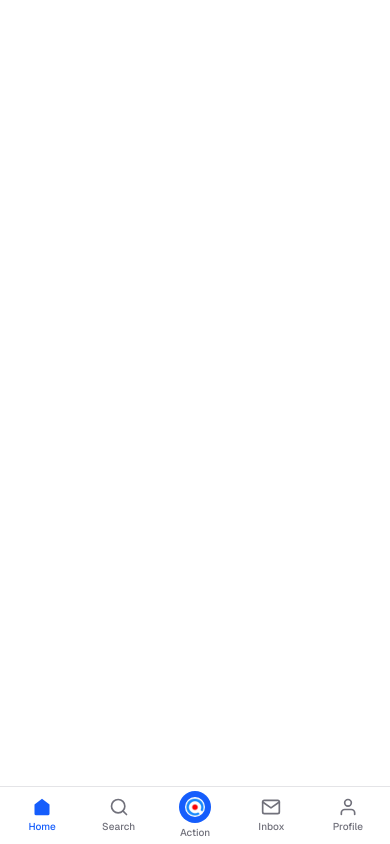
Test case: MobileBottomNav › opens search overlay when Search tab is clicked
Click the button "Search" at (119, 816), box [80, 789, 157, 842]
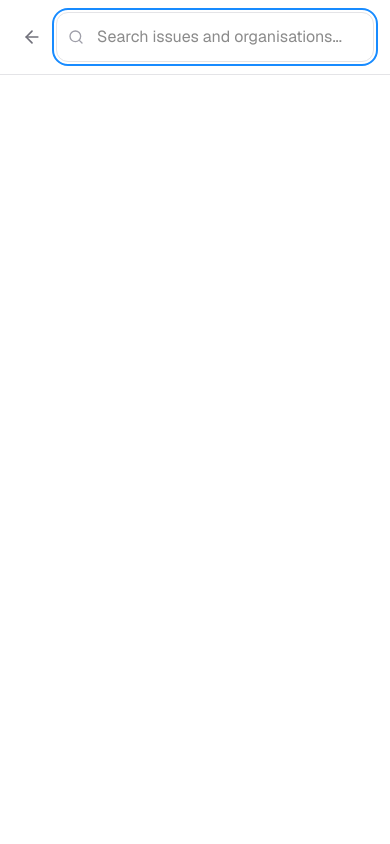
Expected: the dropdown with placeholder "Search issues and organisations..." is shown, [56, 12, 374, 62]
